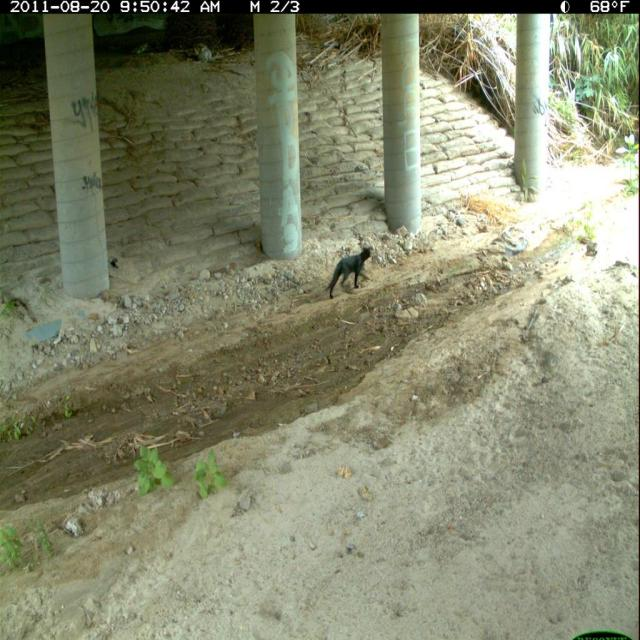cat: (322, 241, 376, 305)
